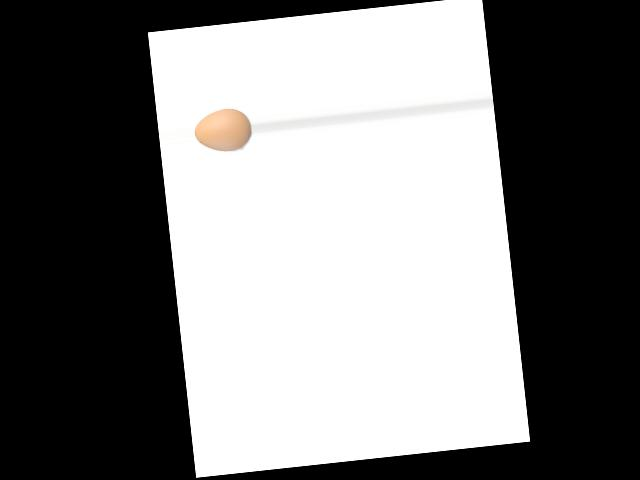egg: (193, 106, 253, 154)
